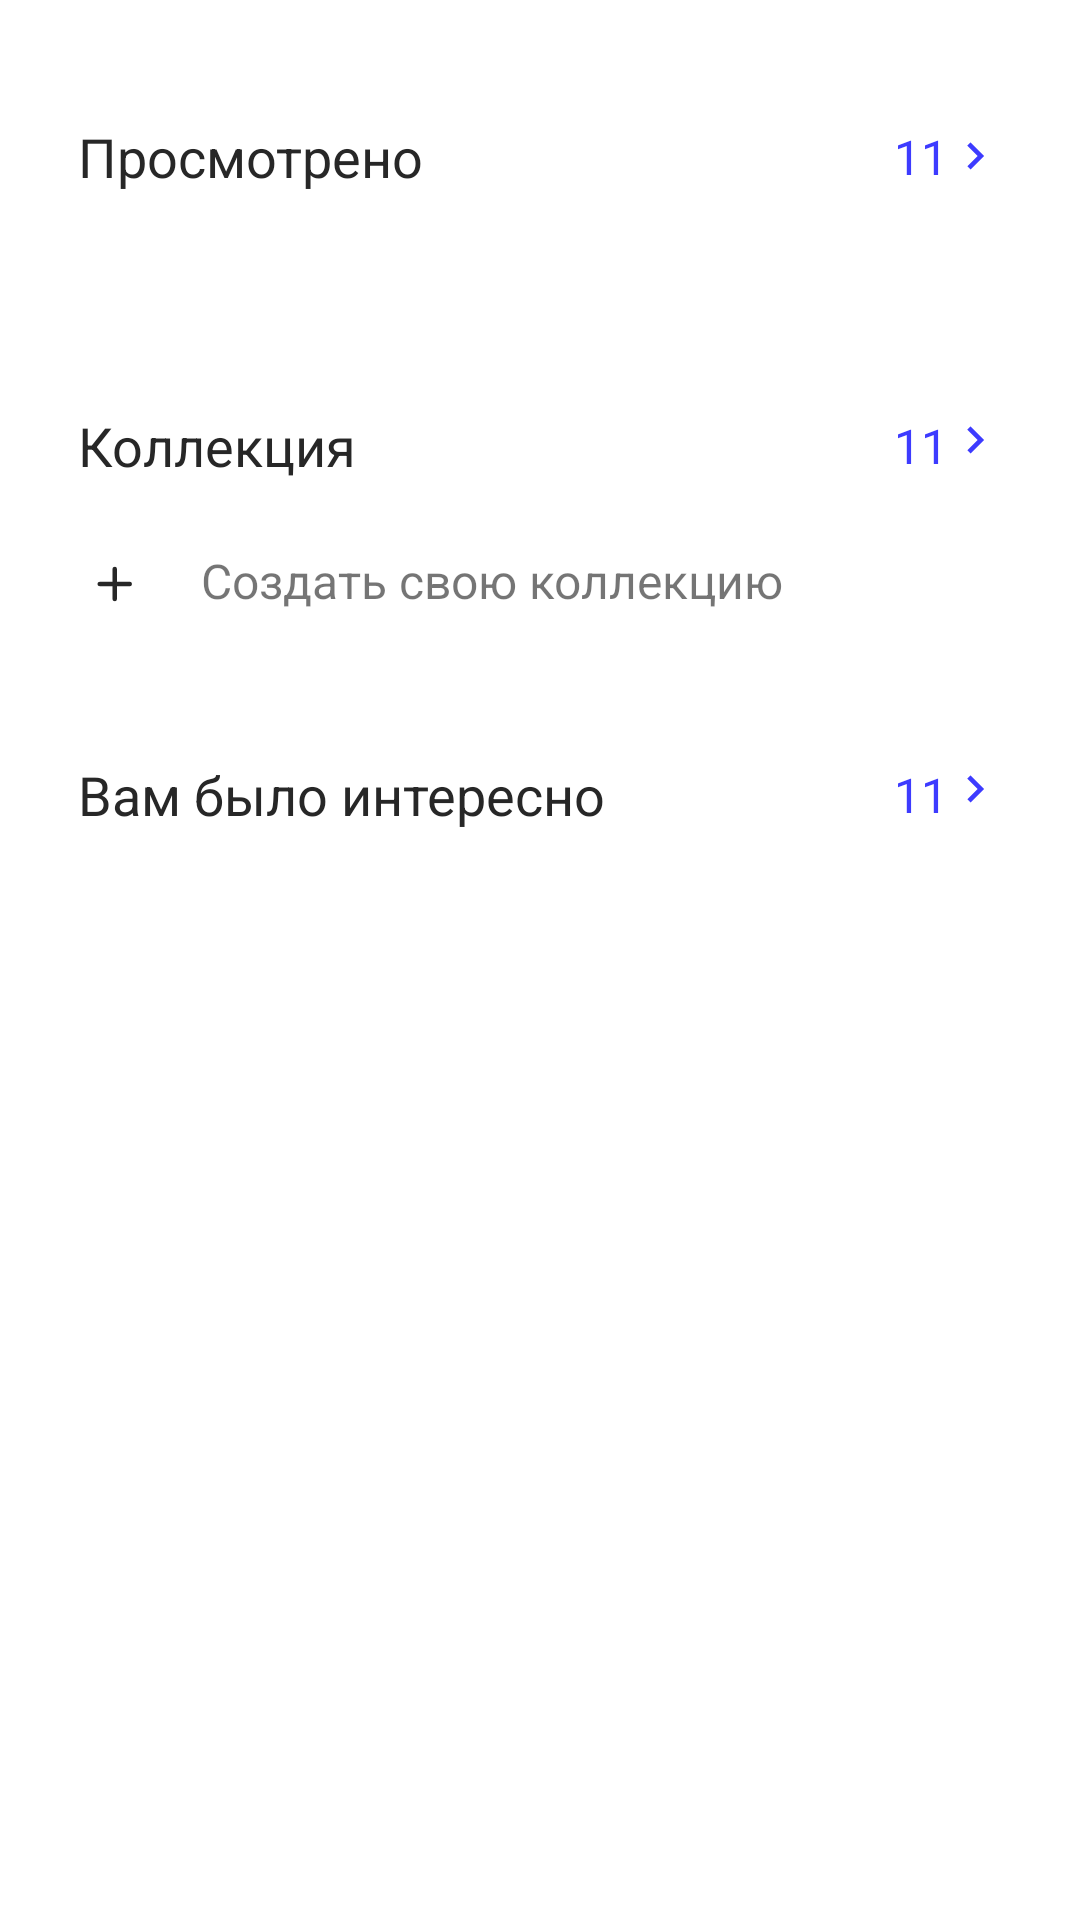

Icons on this 1080 × 1920 Android screen, each with its box as (x1, y1, x2, y2):
add: (97, 566, 132, 602)
navigate next: (967, 142, 984, 170), (967, 426, 984, 454), (967, 775, 984, 803)
